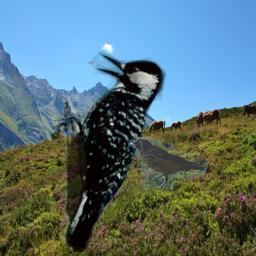Crow: (128, 137, 208, 189)
Woodpecker: (51, 51, 169, 252)
